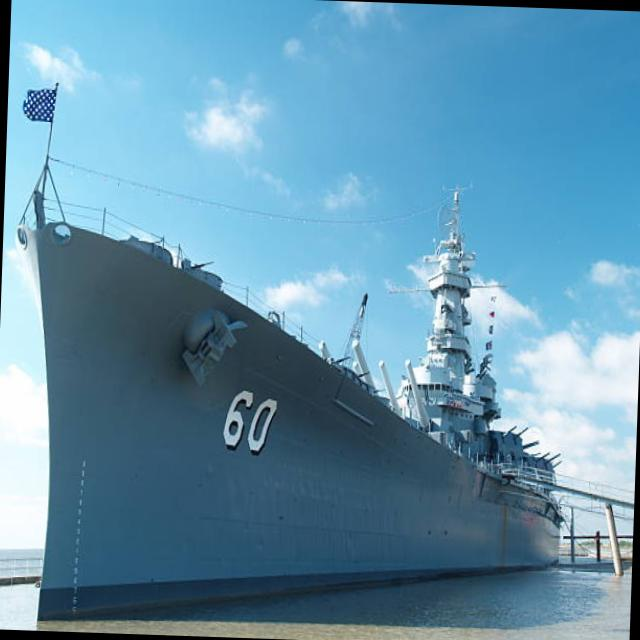Military: (15, 78, 563, 622)
